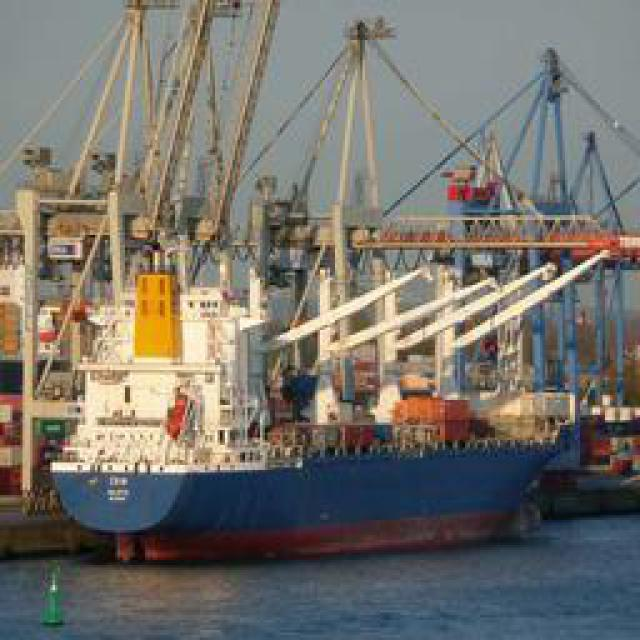Ship: (21, 18, 619, 556)
